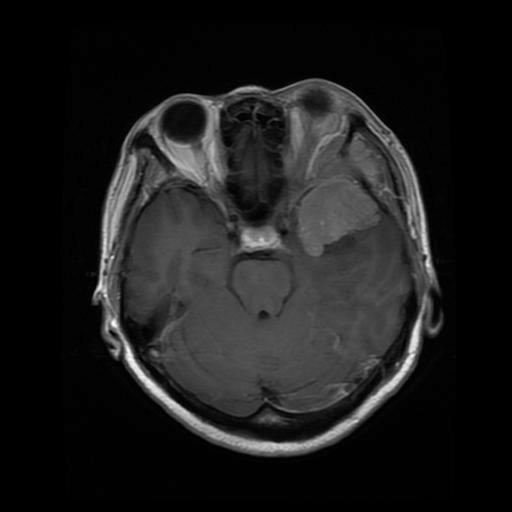Tumour-Meningioma: (281, 175, 387, 286)
